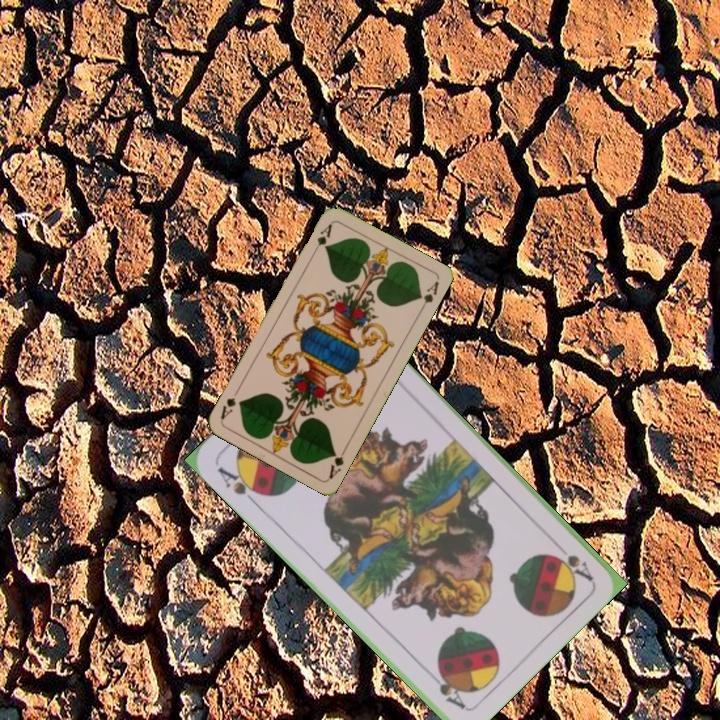GA: (325, 442, 350, 481), (309, 219, 335, 256)
SA: (213, 462, 266, 507), (550, 536, 596, 584)
